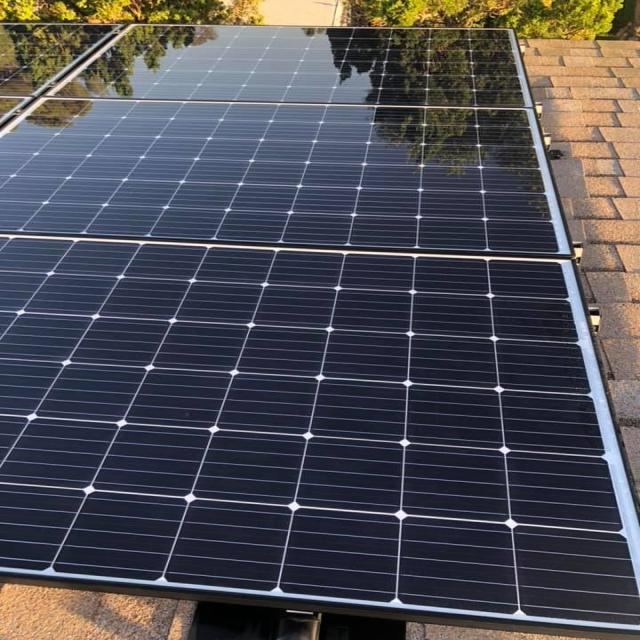clean-solar-panel: (2, 25, 637, 633)
